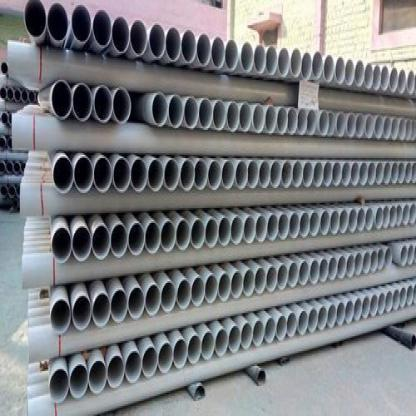pipe: (72, 82, 93, 122), (52, 156, 74, 194), (24, 0, 46, 38), (71, 5, 92, 44), (51, 80, 72, 119), (48, 2, 68, 42), (48, 368, 70, 403), (74, 156, 94, 194), (93, 9, 112, 49), (51, 227, 72, 263), (72, 226, 92, 262), (94, 85, 113, 122), (72, 295, 92, 330), (112, 15, 130, 53), (94, 156, 112, 193), (130, 20, 148, 57), (113, 87, 131, 123), (51, 299, 70, 333), (88, 360, 107, 394), (110, 223, 128, 258), (70, 364, 88, 399), (92, 225, 110, 259), (92, 292, 110, 326), (149, 23, 166, 59), (110, 289, 128, 322), (107, 355, 125, 388), (131, 158, 148, 192), (114, 156, 130, 192), (166, 26, 182, 62), (128, 221, 144, 256), (125, 351, 142, 383), (181, 30, 197, 64), (196, 32, 212, 66), (152, 92, 168, 126), (145, 221, 161, 254), (168, 95, 184, 128), (148, 159, 164, 191), (190, 218, 206, 250), (145, 284, 161, 316), (128, 287, 144, 319), (142, 346, 158, 378), (160, 221, 176, 252), (164, 158, 179, 191), (180, 158, 195, 190), (176, 278, 191, 310), (161, 281, 176, 313), (184, 96, 199, 128), (173, 338, 188, 369), (158, 342, 173, 373), (224, 39, 238, 71), (240, 41, 254, 73), (212, 36, 225, 70), (194, 159, 208, 190), (208, 160, 222, 191), (176, 219, 190, 250), (198, 99, 212, 130), (213, 100, 227, 131), (188, 334, 202, 364), (252, 103, 266, 133), (204, 274, 218, 303), (201, 332, 215, 361), (222, 160, 235, 190), (235, 160, 248, 190), (218, 272, 231, 302), (191, 276, 204, 306), (215, 327, 228, 356), (254, 43, 266, 74), (278, 47, 290, 78), (290, 47, 302, 78), (228, 325, 241, 353), (231, 270, 243, 300), (266, 46, 278, 76), (247, 160, 259, 189), (232, 216, 244, 245), (206, 218, 218, 247), (270, 160, 282, 188), (244, 216, 256, 244), (264, 316, 276, 344), (265, 106, 277, 134), (228, 102, 239, 132), (240, 102, 251, 132), (278, 213, 290, 240), (256, 216, 268, 243), (252, 320, 264, 347), (240, 322, 252, 349), (318, 109, 330, 136), (219, 218, 230, 247), (301, 51, 312, 80), (277, 106, 288, 135), (303, 160, 314, 188), (292, 160, 303, 188), (259, 160, 270, 188), (266, 266, 277, 294), (255, 267, 266, 295), (298, 261, 310, 286), (312, 51, 322, 81), (324, 54, 334, 84), (335, 55, 345, 85), (277, 263, 288, 290), (288, 106, 298, 135), (276, 314, 287, 340), (282, 160, 292, 188), (268, 214, 278, 242), (244, 268, 254, 296), (344, 58, 354, 86), (354, 60, 364, 88), (332, 160, 342, 187), (323, 161, 333, 188), (290, 212, 300, 239), (298, 108, 308, 135), (350, 162, 360, 188), (310, 259, 320, 285), (288, 262, 298, 288), (287, 312, 297, 338), (380, 66, 390, 92), (307, 109, 317, 135), (314, 160, 323, 188), (320, 210, 330, 235), (300, 212, 310, 237), (298, 310, 308, 335), (336, 112, 346, 137), (346, 113, 356, 138), (348, 208, 358, 232), (310, 212, 320, 236), (328, 256, 338, 280), (336, 302, 346, 326), (308, 308, 318, 332), (359, 160, 368, 186), (364, 64, 373, 90), (374, 116, 384, 139), (367, 161, 376, 186), (339, 209, 348, 234), (330, 210, 339, 235), (365, 114, 374, 139), (374, 206, 384, 228), (342, 162, 351, 186), (337, 256, 346, 280), (345, 300, 354, 324), (318, 306, 327, 330), (390, 66, 398, 93), (373, 64, 381, 90), (398, 68, 406, 94), (328, 110, 336, 136), (346, 254, 355, 277), (383, 117, 392, 140), (376, 161, 384, 186), (355, 251, 363, 276), (390, 161, 398, 185), (384, 161, 392, 185), (382, 204, 390, 228), (366, 207, 374, 231), (357, 207, 365, 231), (320, 258, 328, 282), (354, 298, 362, 322), (328, 304, 336, 328), (406, 70, 414, 94), (356, 114, 364, 138), (398, 117, 406, 141), (404, 161, 412, 184), (363, 251, 371, 274), (390, 117, 398, 140), (402, 204, 410, 226), (400, 244, 408, 266), (406, 284, 414, 306), (370, 294, 378, 316), (362, 296, 370, 318), (396, 203, 403, 228), (384, 247, 392, 268), (393, 288, 400, 311), (398, 162, 405, 184), (371, 250, 378, 272), (378, 292, 385, 314), (410, 201, 416, 226), (390, 203, 396, 228), (406, 118, 412, 141), (378, 248, 384, 270), (400, 286, 406, 308), (386, 290, 392, 312)
